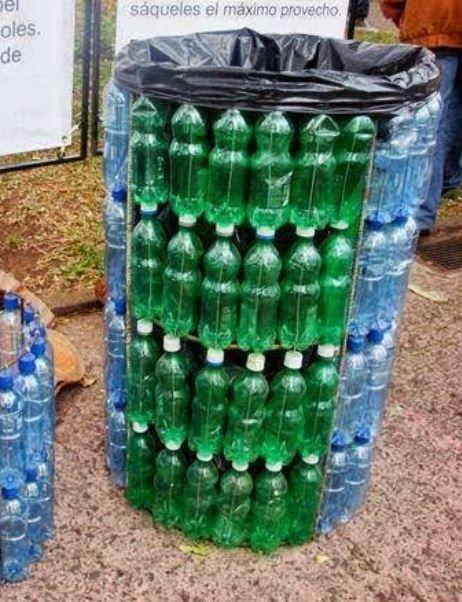HDPE: (17, 353, 36, 374), (245, 353, 265, 371), (283, 352, 303, 369), (254, 225, 276, 240), (163, 334, 181, 352), (0, 369, 15, 390), (214, 222, 236, 236), (29, 338, 46, 356), (347, 335, 365, 351), (207, 349, 225, 364), (366, 328, 384, 343), (137, 319, 153, 335), (317, 343, 334, 358), (295, 226, 318, 237), (178, 214, 197, 227), (3, 294, 19, 309), (29, 321, 45, 335), (0, 486, 20, 497), (329, 220, 350, 230), (140, 203, 159, 214), (24, 308, 40, 321), (165, 439, 182, 451), (232, 459, 249, 471), (265, 459, 282, 471), (132, 421, 148, 433), (302, 453, 319, 464), (196, 451, 214, 461), (111, 191, 128, 201), (114, 301, 127, 314), (26, 468, 38, 482), (113, 401, 127, 410)
LDPE: (113, 27, 443, 111)
PETE: (237, 241, 282, 354), (278, 237, 323, 350), (247, 109, 290, 225), (199, 236, 241, 349), (294, 113, 333, 232), (338, 116, 376, 227), (128, 96, 167, 204), (162, 226, 199, 337), (224, 370, 269, 461), (208, 109, 243, 224), (369, 108, 403, 225), (266, 368, 306, 466), (128, 215, 166, 316), (318, 231, 351, 345), (398, 109, 431, 223), (170, 105, 203, 216), (332, 352, 369, 447), (351, 230, 385, 333), (305, 357, 339, 458), (154, 351, 190, 444), (190, 363, 226, 456), (212, 471, 253, 548), (250, 473, 288, 554), (286, 463, 322, 547), (17, 375, 48, 469), (126, 334, 158, 421), (102, 84, 128, 189), (0, 499, 32, 584), (153, 449, 186, 531), (0, 390, 27, 487), (184, 461, 217, 540), (362, 342, 388, 441), (323, 452, 351, 537), (126, 431, 156, 509), (386, 228, 410, 325), (104, 201, 127, 299), (21, 482, 47, 560), (347, 446, 370, 521), (36, 358, 55, 445), (106, 315, 125, 400), (1, 307, 21, 377), (110, 409, 127, 489)
